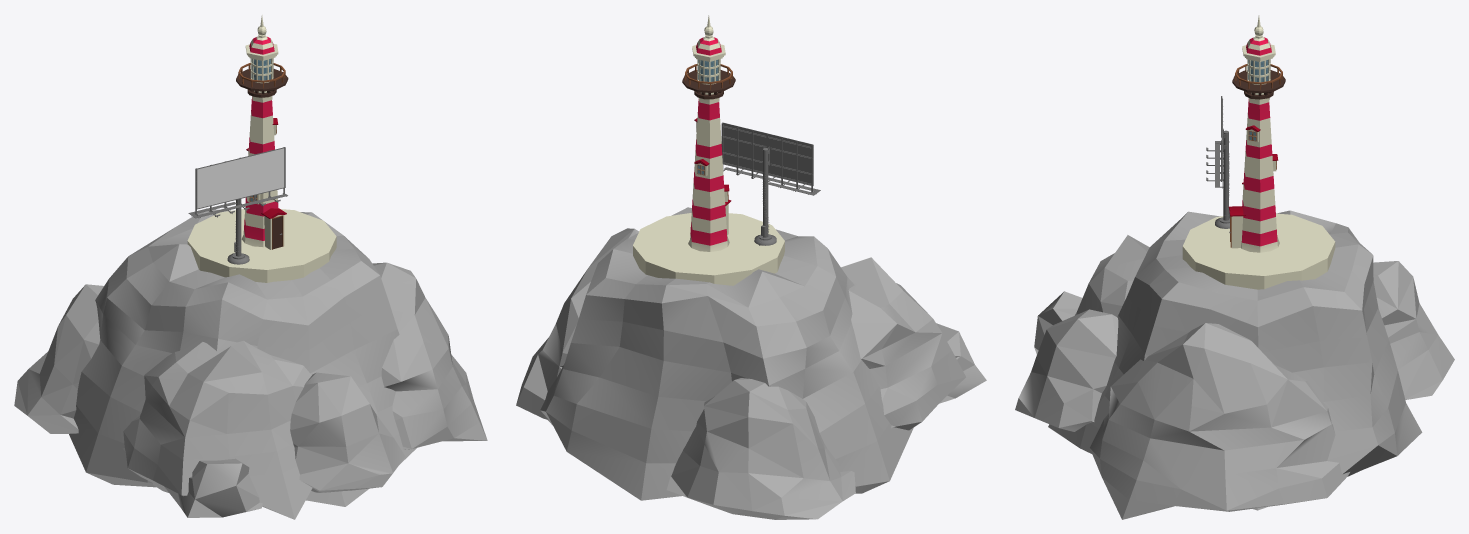
The model's file is Lighthouse.fbx.
3 views of the same model, side by side, from view 1: azimuth 30°, elevation 25°; view 2: azimuth 150°, elevation 25°; view 3: azimuth 270°, elevation 25° (orthographic). The views are drawn at different scales.
Parts seen in each view (by area): view 1: Rocks, Lighthouse1, Billboard; view 2: Rocks, Lighthouse1, Billboard; view 3: Rocks, Lighthouse1, Billboard.
Part boxes in pixels (box(x1,y1,x2,y2)): Rocks: box(14, 208, 487, 519); Lighthouse1: box(187, 15, 336, 282); Billboard: box(188, 147, 287, 264); Rocks: box(516, 207, 986, 519); Lighthouse1: box(633, 15, 784, 285); Billboard: box(721, 122, 820, 245); Rocks: box(1015, 210, 1454, 519); Lighthouse1: box(1182, 15, 1335, 289); Billboard: box(1206, 96, 1229, 228).
Bounding box in the file's own units: 2941 × 3460 × 2948.
